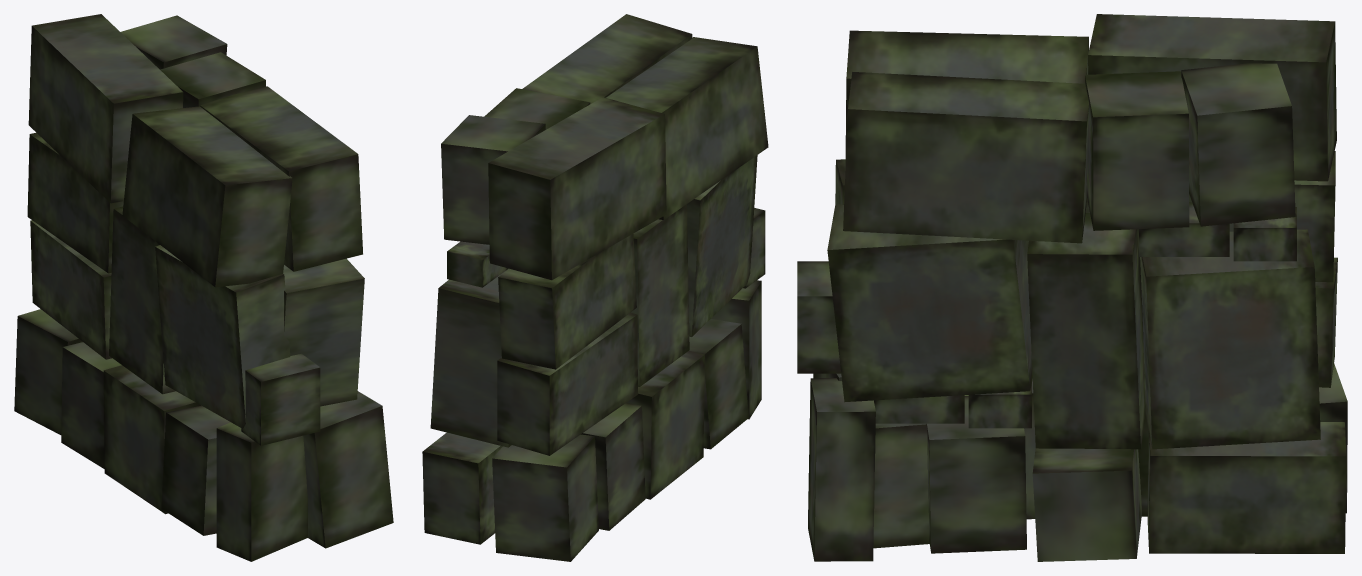
Rendered from ruin-wall-03.fbx.
3 renders of one model, left to right at view 1: azimuth 30°, elevation 25°; view 2: azimuth 150°, elevation 25°; view 3: azimuth 270°, elevation 25°, orthographic. The views are drawn at different scales.
Visible parts, largest first — view 1: wall_03; view 2: wall_03; view 3: wall_03.
Part boxes in pixels (<box>): wall_03: <box>14,14,393,561</box>; wall_03: <box>422,14,768,561</box>; wall_03: <box>797,14,1347,561</box>.
Size of the model in its own units: 183 by 405 by 436.
